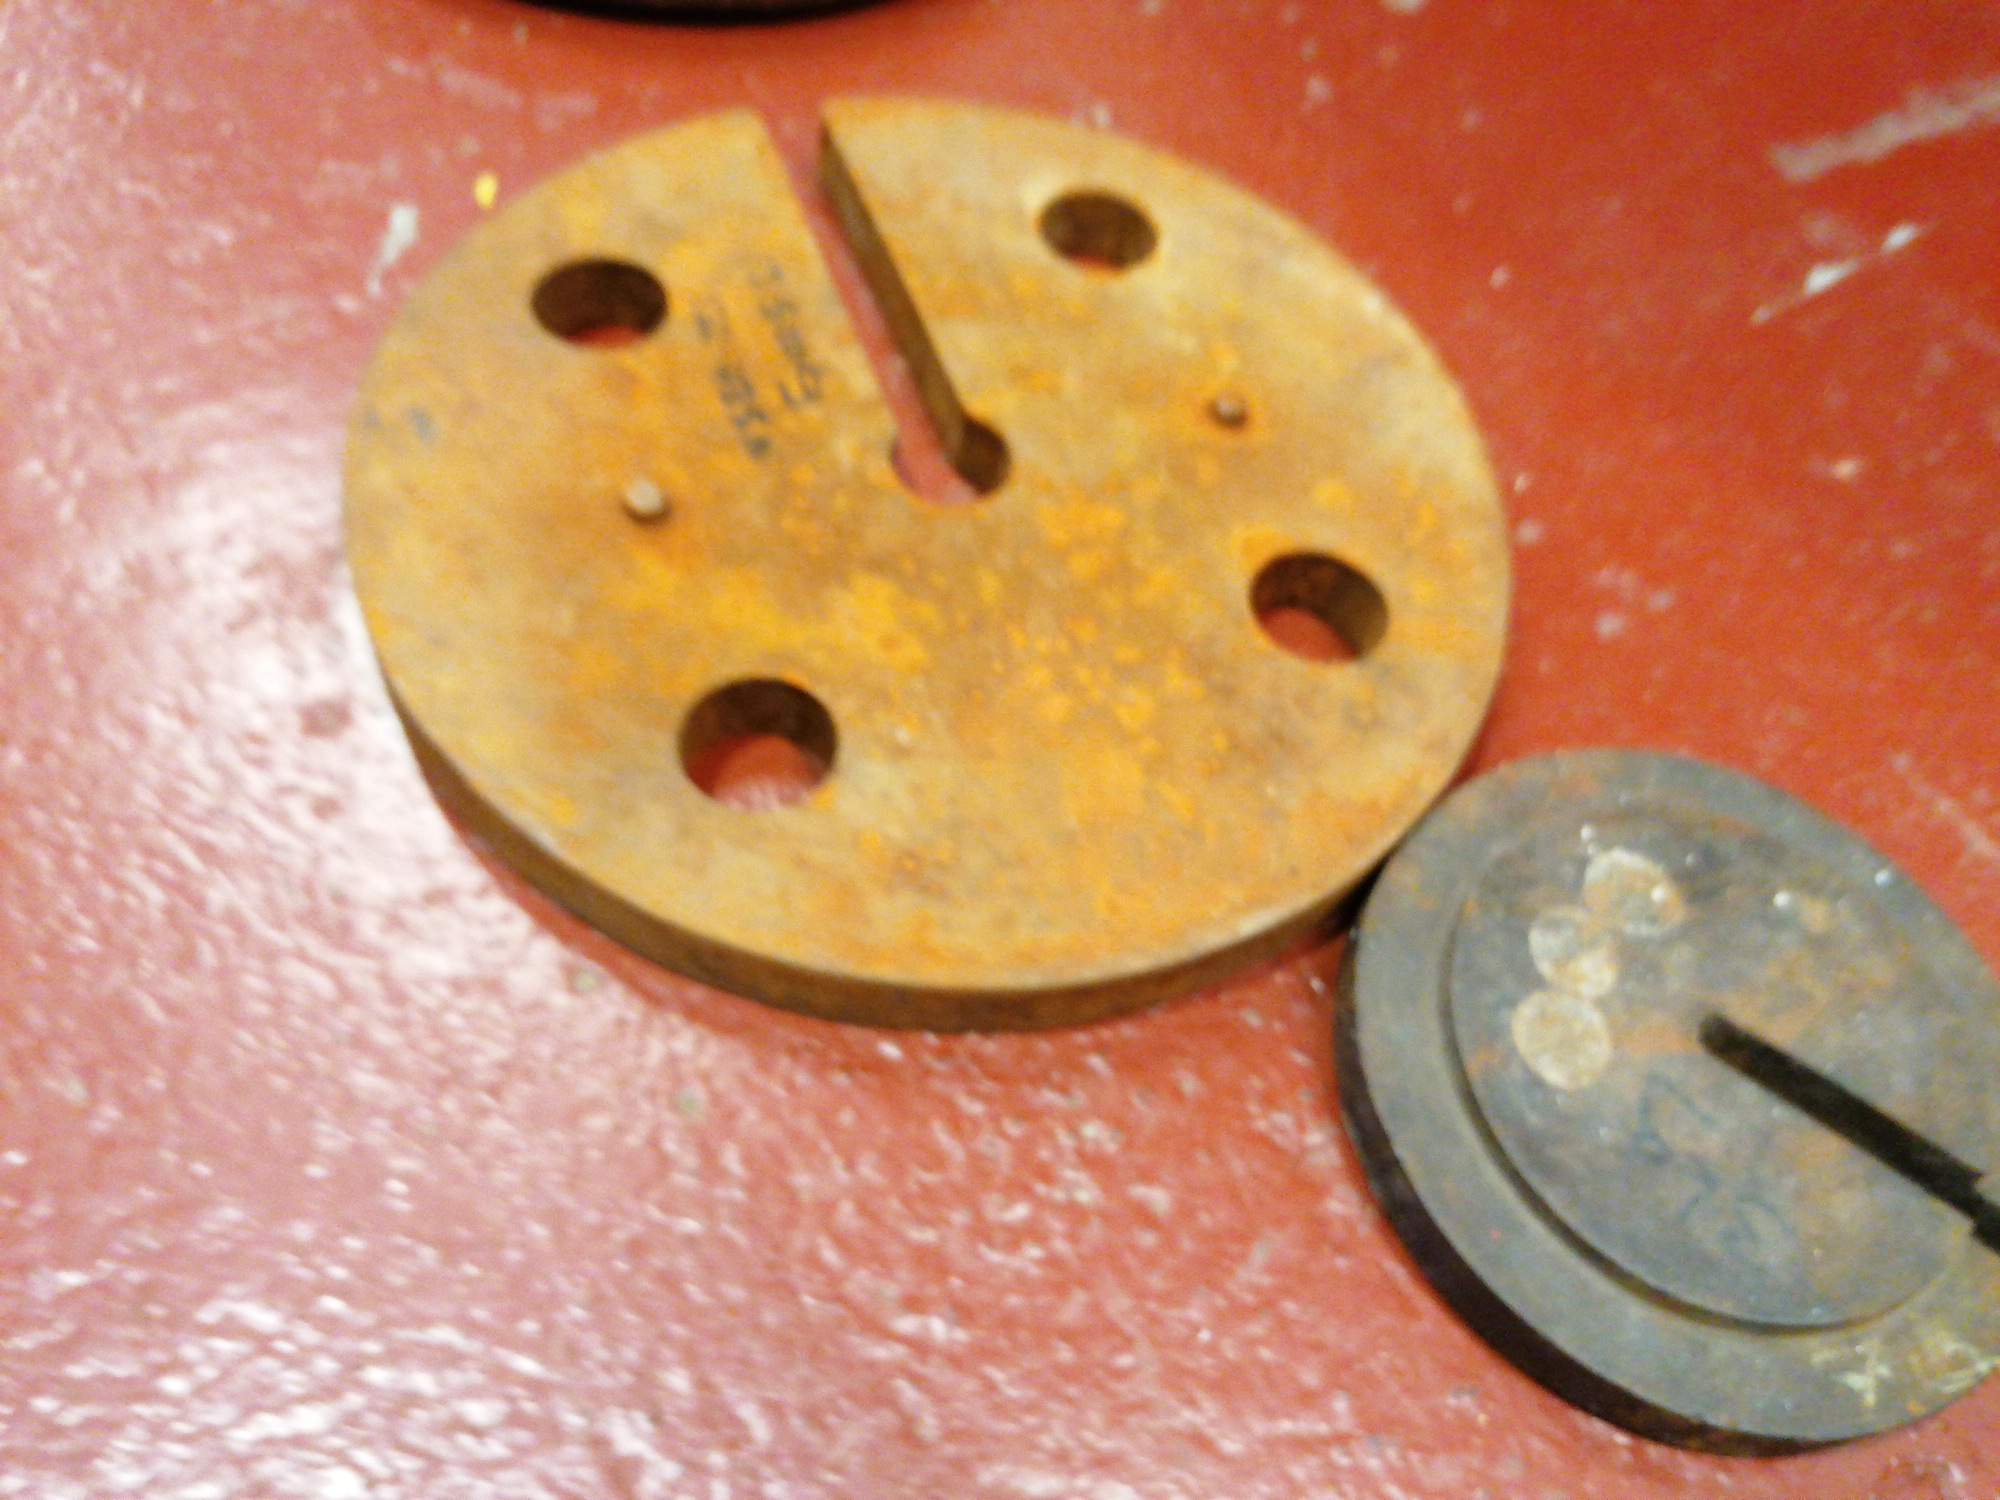flange: (339, 88, 1517, 1035), (1326, 741, 1998, 1461)
